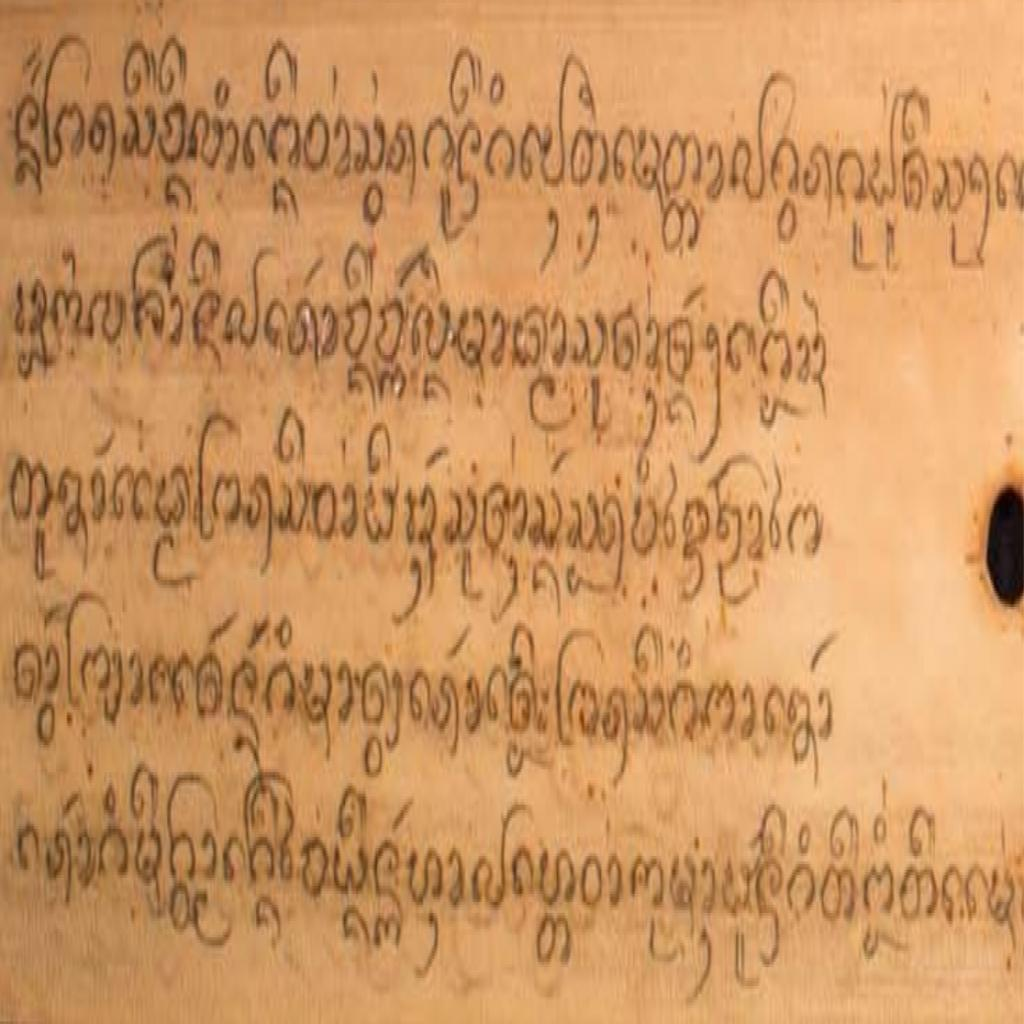LN002: (787, 680, 819, 784)
